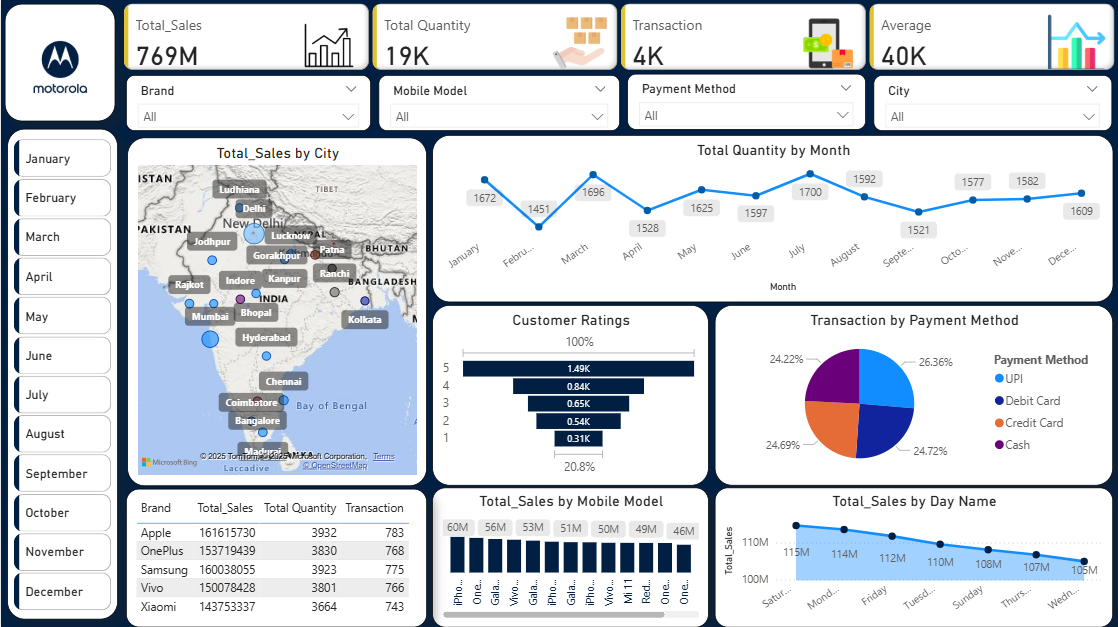

Layout of this report page (visuals, bound fields, positions):
{"tool":"powerbi","page":{"name":"Page 1","canvas":[1280,720],"ordinal":0},"visuals":[{"type":"shape","box":[4.4,4.4,126.7,134.4],"z":0},{"type":"image","box":[2.2,2.2,130,147.8],"z":1000},{"type":"shape","box":[6.7,147.8,126.7,561.1],"z":2000},{"type":"advancedSlicerVisual","fields":{"Values":["Sales_Data.Date.Variation.Date Hierarchy.Month"]},"box":[10,154.4,121.1,548.9],"z":3000},{"type":"cardVisual","fields":{"Data":["Sales_Data.Total_Sales","Sales_Data.Total Quantity","Sales_Data.Transaction","Sales_Data.Average"]},"box":[136.2,0,1143.8,85],"z":4000},{"type":"map","fields":{"Category":["Sales_Data.City"],"Size":["Sales_Data.Total_Sales"]},"box":[142.5,155,342.5,398.8],"z":5000},{"type":"lineChart","fields":{"Y":["Sales_Data.Total Quantity"],"Category":["Sales_Data.Date.Variation.Date Hierarchy.Month","Sales_Data.Date.Variation.Date Hierarchy.Day"]},"box":[492.5,153.8,778.8,191.2],"z":6000},{"type":"clusteredColumnChart","fields":{"Y":["Sales_Data.Total_Sales"],"Category":["Sales_Data.Mobile Model"]},"box":[492.5,557.5,316.2,160],"z":7000},{"type":"pieChart","fields":{"Category":["Sales_Data.Payment Method"],"Y":["Sales_Data.Transaction"]},"box":[816.2,348.8,455,206.2],"z":8000},{"type":"funnel","title":"Customer Ratings","fields":{"Category":["Sales_Data.Customer Ratings"],"Y":["CountNonNull(Sales_Data.Customer Ratings)"]},"box":[492.5,348.8,316.2,206.2],"z":9000},{"type":"stackedAreaChart","fields":{"Category":["Sales_Data.Day Name"],"Y":["Sales_Data.Total_Sales"]},"box":[816.2,557.5,455,160],"z":10000},{"type":"tableEx","fields":{"Values":["Sales_Data.Brand","Sales_Data.Total_Sales","Sales_Data.Total Quantity","Sales_Data.Transaction"]},"box":[142.5,558.8,343.8,158.8],"z":11000},{"type":"slicer","fields":{"Values":["Sales_Data.Brand"]},"box":[142.5,86.2,280,63.8],"z":12000},{"type":"slicer","fields":{"Values":["Sales_Data.Mobile Model"]},"box":[431.2,86.2,276.2,63.8],"z":13000},{"type":"slicer","fields":{"Values":["Sales_Data.Payment Method"]},"box":[716.2,85,272.5,63.8],"z":14000},{"type":"slicer","fields":{"Values":["Sales_Data.City"]},"box":[997.5,86.2,272.5,63.8],"z":15000}]}

Visuals, with their boxes in screenshot pixels (x1, y1, x2, y2), scaled from the page's 1280x720 canvas onto the 1118x627 screenshot:
shape: 4 4 115 121
image: 2 2 115 131
shape: 6 129 117 617
advancedSlicerVisual - Sales_Data.Date.Variation.Date Hierarchy.Month: 9 134 115 612
cardVisual - Sales_Data.Total_Sales x Sales_Data.Total Quantity: 119 0 1117 74
map - Sales_Data.City x Sales_Data.Total_Sales: 124 135 424 482
lineChart - Sales_Data.Total Quantity x Sales_Data.Date.Variation.Date Hierarchy.Month: 430 134 1110 300
clusteredColumnChart - Sales_Data.Total_Sales x Sales_Data.Mobile Model: 430 485 706 625
pieChart - Sales_Data.Payment Method x Sales_Data.Transaction: 713 304 1110 483
"Customer Ratings" funnel: 430 304 706 483
stackedAreaChart - Sales_Data.Day Name x Sales_Data.Total_Sales: 713 485 1110 625
tableEx - Sales_Data.Brand x Sales_Data.Total_Sales: 124 487 425 625
slicer - Sales_Data.Brand: 124 75 369 131
slicer - Sales_Data.Mobile Model: 377 75 618 131
slicer - Sales_Data.Payment Method: 626 74 864 130
slicer - Sales_Data.City: 871 75 1109 131
